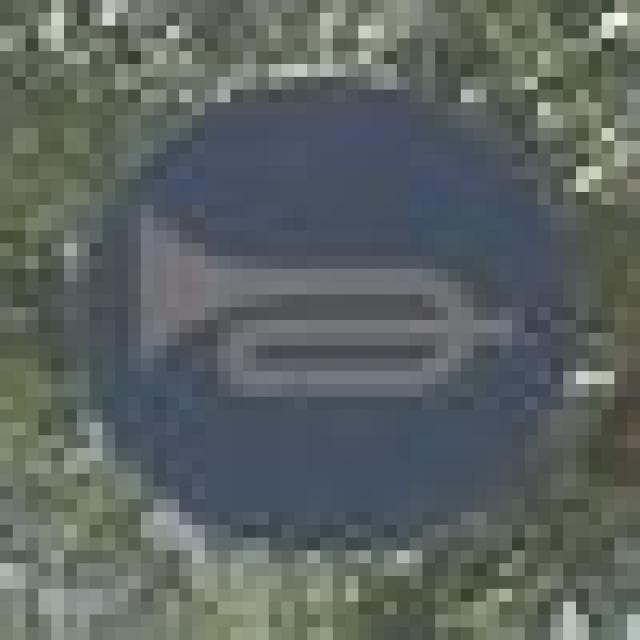COMPULSARY_SOUND_HORN: (64, 51, 563, 538)
